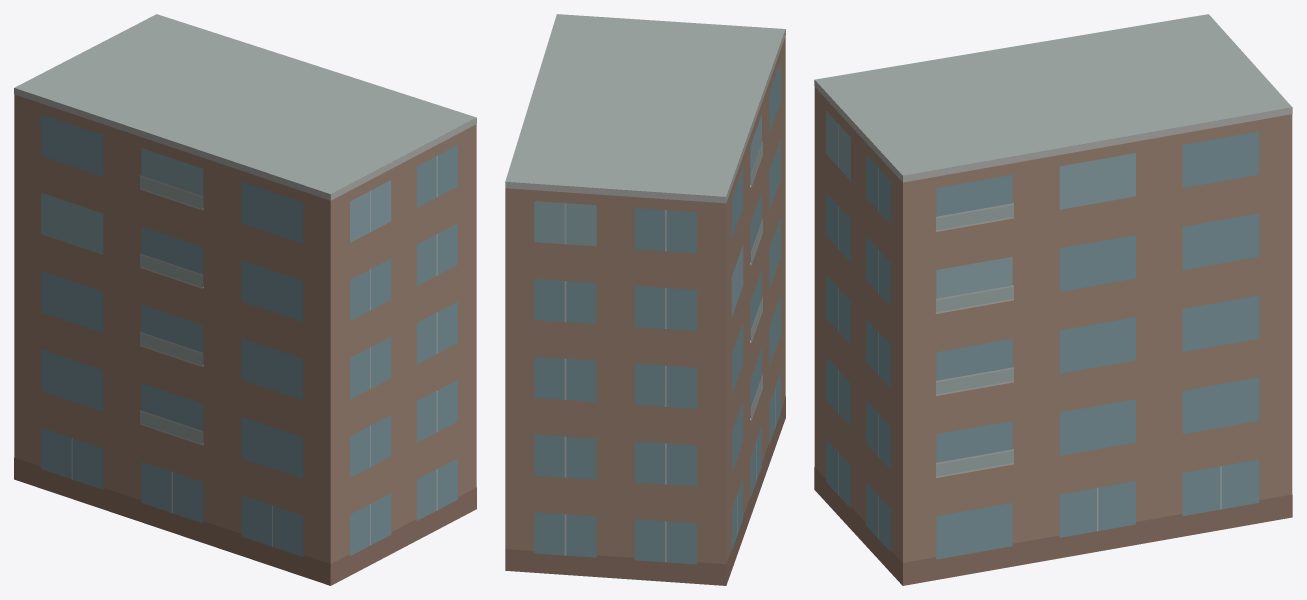
Rendered from survey-upis-32932410.glb.
The picture shows the model from 3 angles, left to right: view 1: azimuth 30°, elevation 25°; view 2: azimuth 150°, elevation 25°; view 3: azimuth 270°, elevation 25°; orthographic projection. The views are drawn at different scales.
Parts seen in each view (by area): view 1: survey-upis-32932410.tmp; view 2: survey-upis-32932410.tmp; view 3: survey-upis-32932410.tmp.
Part boxes in pixels (x1,y1,x2,y2): survey-upis-32932410.tmp: [14, 14, 476, 585]; survey-upis-32932410.tmp: [505, 14, 785, 585]; survey-upis-32932410.tmp: [814, 14, 1292, 585].
Bounding box in the file's own units: 12.45 × 14.7 × 15.54.
